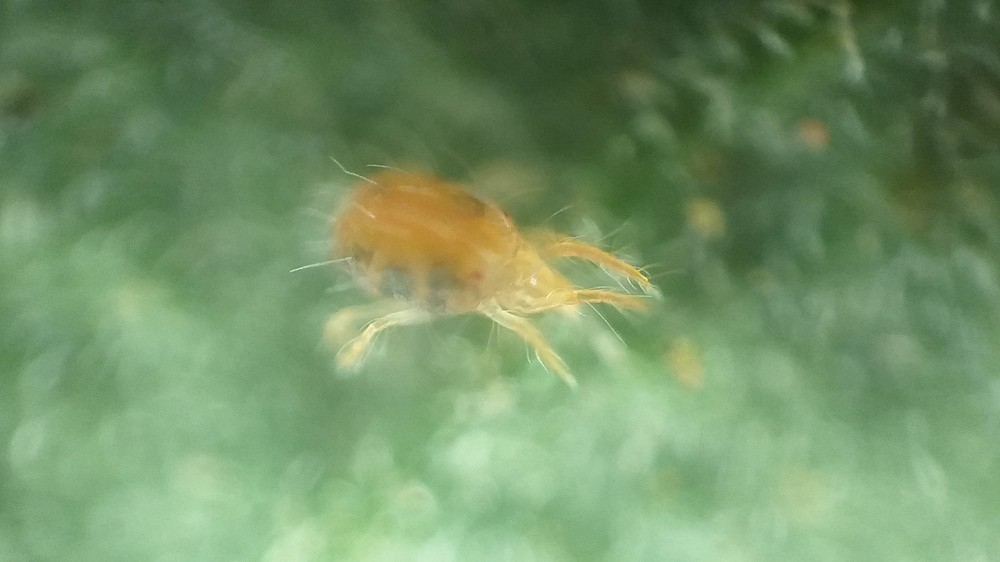Aracnido Rojo: (266, 137, 689, 413)
